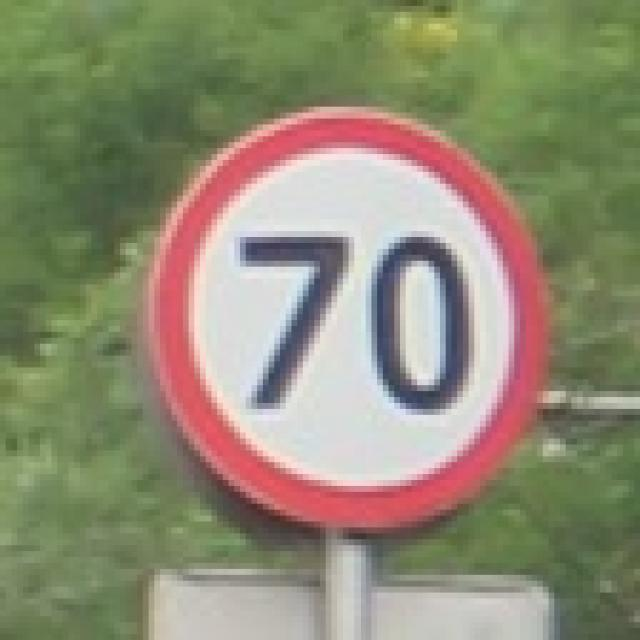Speed Limit -70-: (233, 230, 482, 422)
